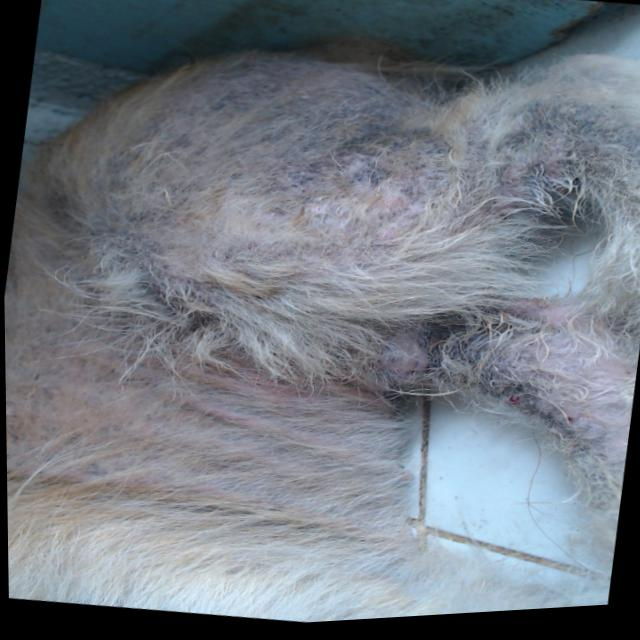demodicosis: (145, 58, 345, 245), (120, 338, 340, 450), (430, 313, 636, 423), (447, 91, 640, 205)
